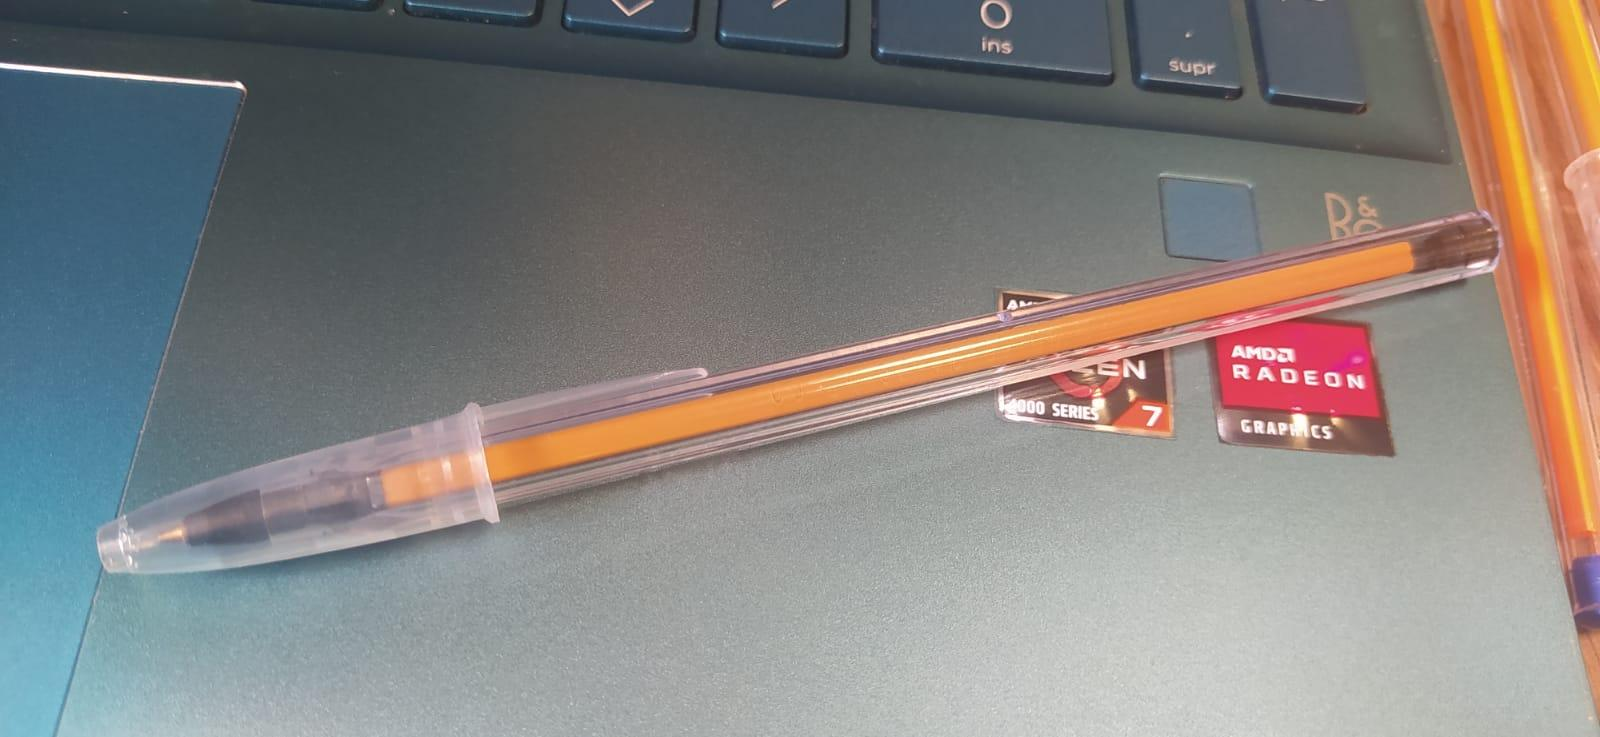pen: (96, 203, 1508, 574), (1448, 1, 1600, 634)
